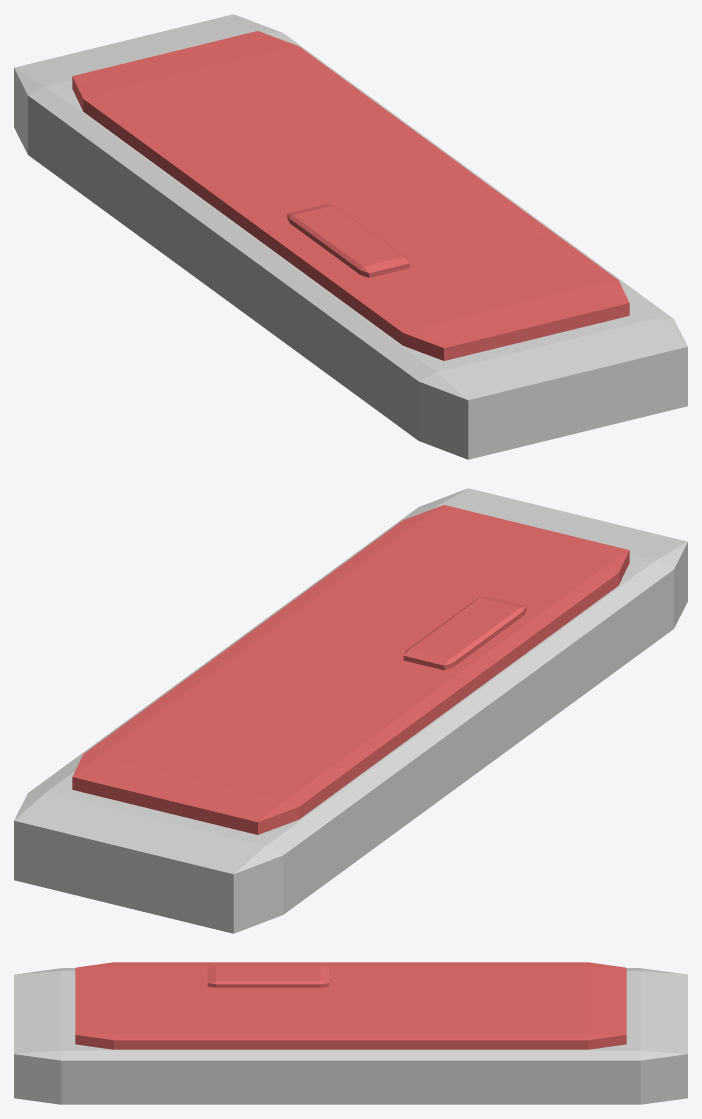
File: b16_partly_eaten_ice_pop.glb
3 views of the same model, one above another, from view 1: azimuth 30°, elevation 25°; view 2: azimuth 150°, elevation 25°; view 3: azimuth 270°, elevation 25° (orthographic). The views are drawn at different scales.
Parts seen in each view (by area): view 1: b16_partly_eaten_ice_pop; view 2: b16_partly_eaten_ice_pop; view 3: b16_partly_eaten_ice_pop.
Boxes of the visible parts, x1,y1,x2,y2 form: b16_partly_eaten_ice_pop: (14, 14, 687, 459); b16_partly_eaten_ice_pop: (14, 488, 687, 933); b16_partly_eaten_ice_pop: (14, 962, 687, 1104).
Bounding box in the file's own units: 0.062 × 0.021 × 0.191.
